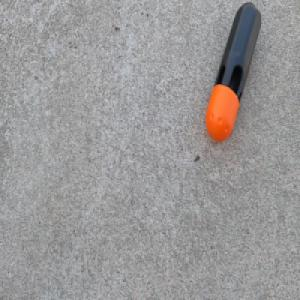PlasticPart: (203, 1, 261, 142)
